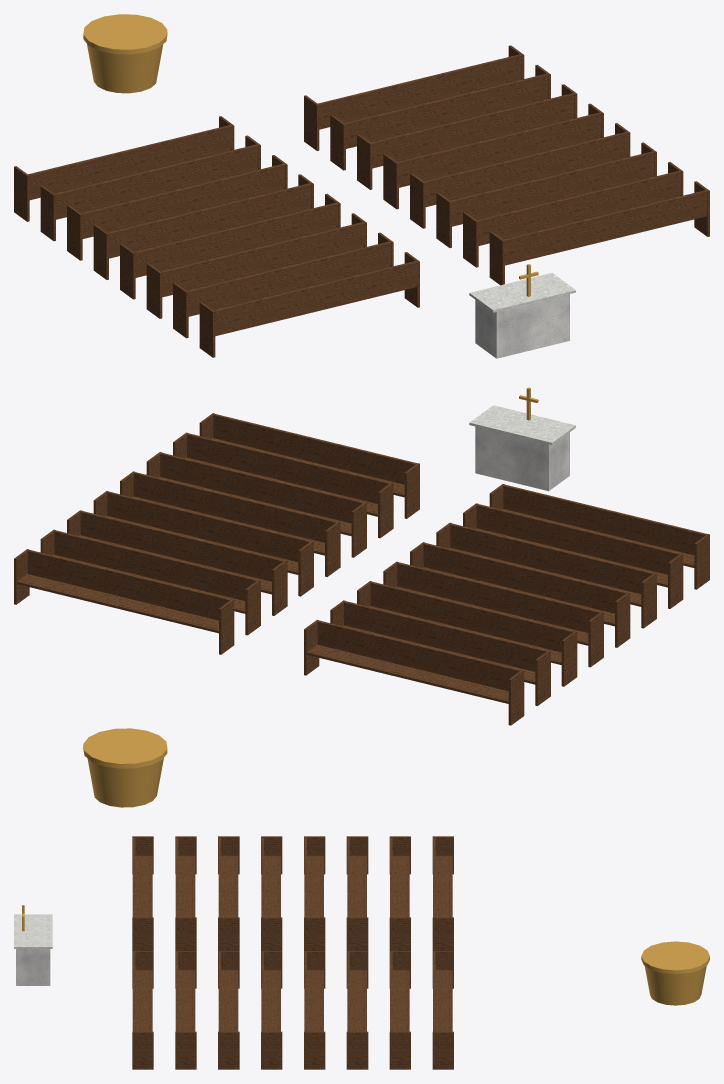
Rendered from i_tw_folk_temple.gltf.
The picture shows the model from 3 angles, top to bottom: view 1: azimuth 30°, elevation 25°; view 2: azimuth 150°, elevation 25°; view 3: azimuth 270°, elevation 25°; orthographic projection. The views are drawn at different scales.
Parts seen in each view (by area): view 1: I_tw_folk_temple; view 2: I_tw_folk_temple; view 3: I_tw_folk_temple.
Boxes of the visible parts, bbox=[...] form: I_tw_folk_temple: bbox=[14, 14, 709, 358]; I_tw_folk_temple: bbox=[14, 387, 709, 807]; I_tw_folk_temple: bbox=[14, 836, 709, 1069].
Size of the model in its own units: 10.82 by 2.3 by 16.23.
Materials: 4 (3 with a texture image).
